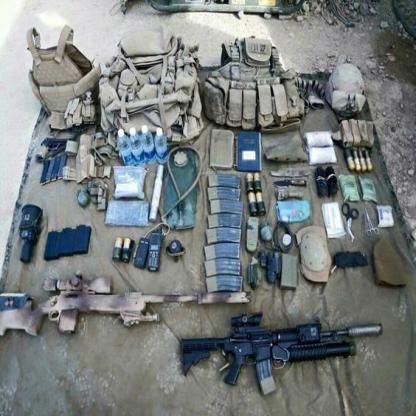Grenade: (76, 186, 91, 208)
Gun: (180, 308, 384, 400), (0, 268, 251, 338)
Knife: (270, 166, 310, 188)
